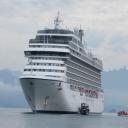cruises: (18, 12, 107, 118)
